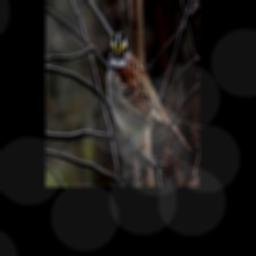Sparrow: (106, 32, 191, 153)
